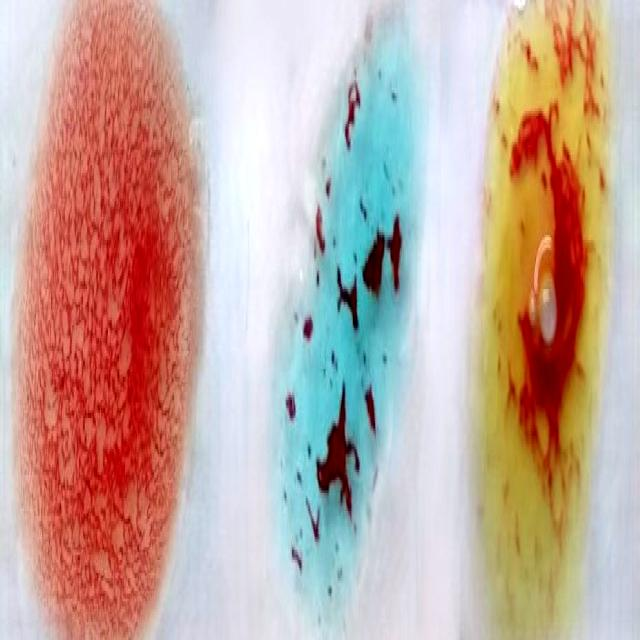A: (280, 43, 412, 613)
B: (486, 8, 614, 638)
D: (19, 7, 190, 640)
